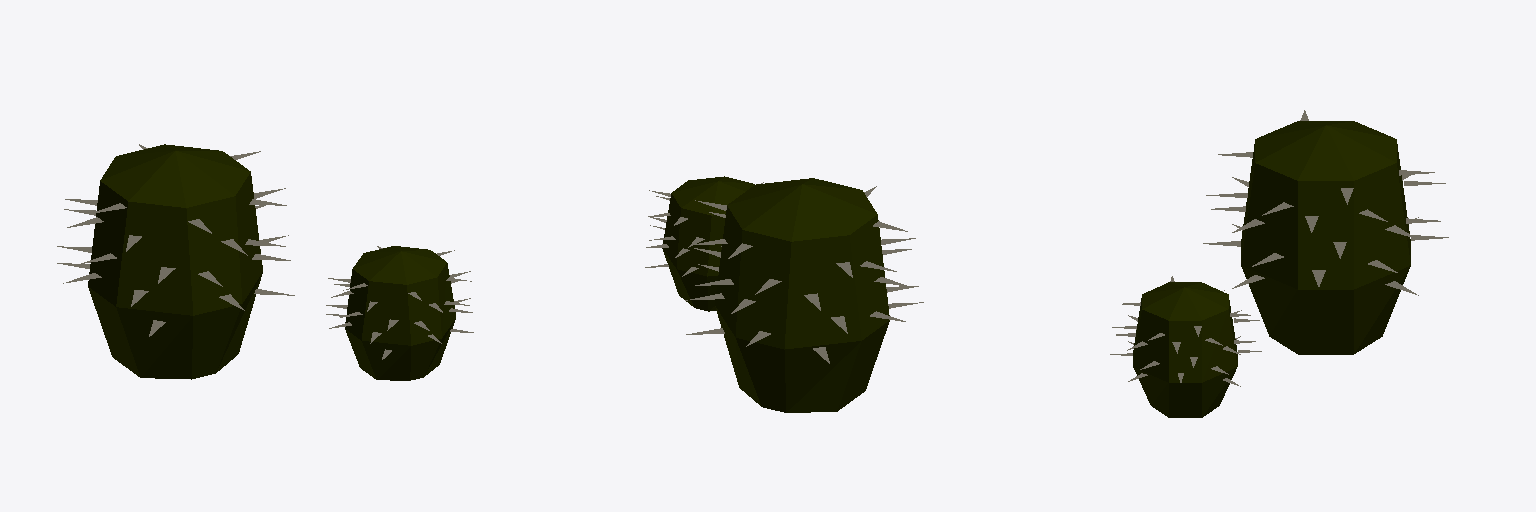
The model's file is cactus3.obj.
3 views of the same model, side by side, from view 1: azimuth 30°, elevation 25°; view 2: azimuth 150°, elevation 25°; view 3: azimuth 270°, elevation 25° (orthographic).
Size of the model in its own units: 219 by 128 by 196.